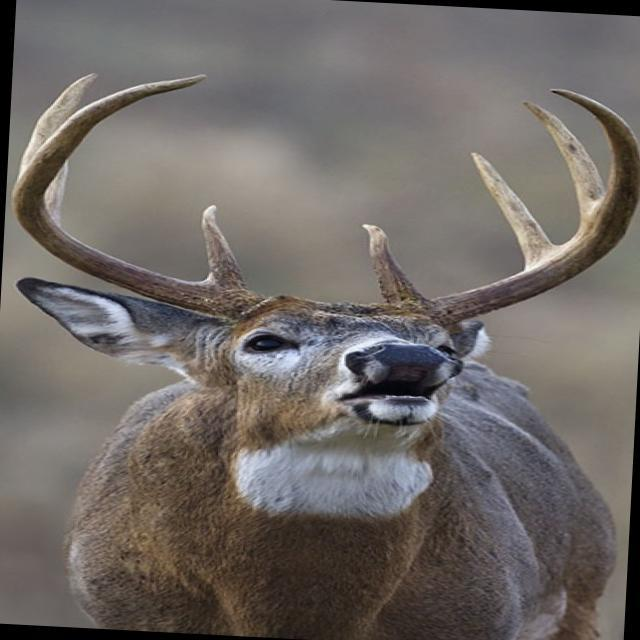L-F: (389, 88, 640, 326)
L-G1: (363, 222, 429, 303)
L-G2: (470, 152, 560, 270)
L-G3: (522, 99, 607, 231)
R-F: (10, 74, 272, 320)
R-G1: (197, 205, 251, 291)
